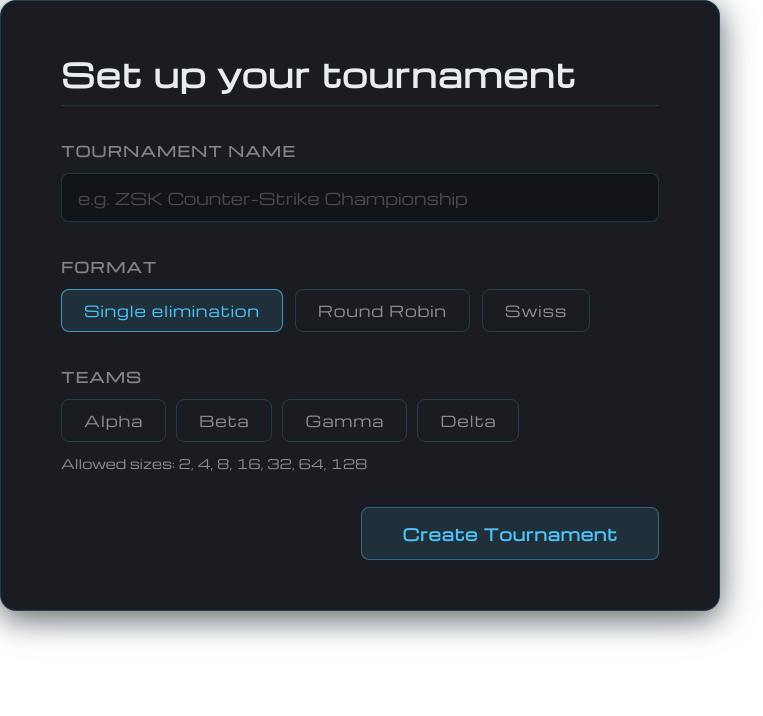
Test: TournamentForm › shows a validation error when submitting without a tournament name
This screenshot has width=763, height=716.
What coordinates should you click on to do the following:
click the button "Create Tournament"
I would click on:
 (510, 534)
Its box is [362,507,659,560].
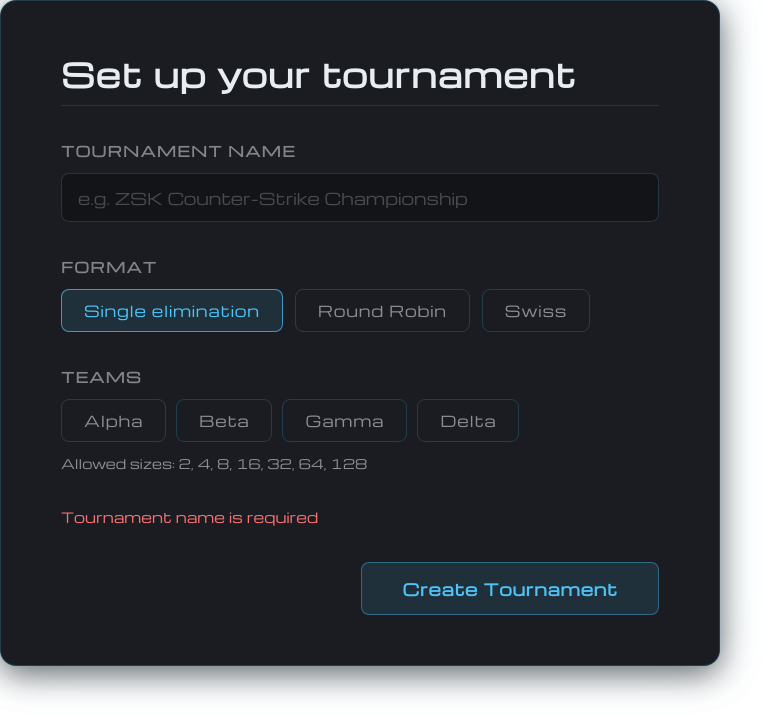
Expected: the text "Tournament name is required" is shown, [61,507,318,527]
